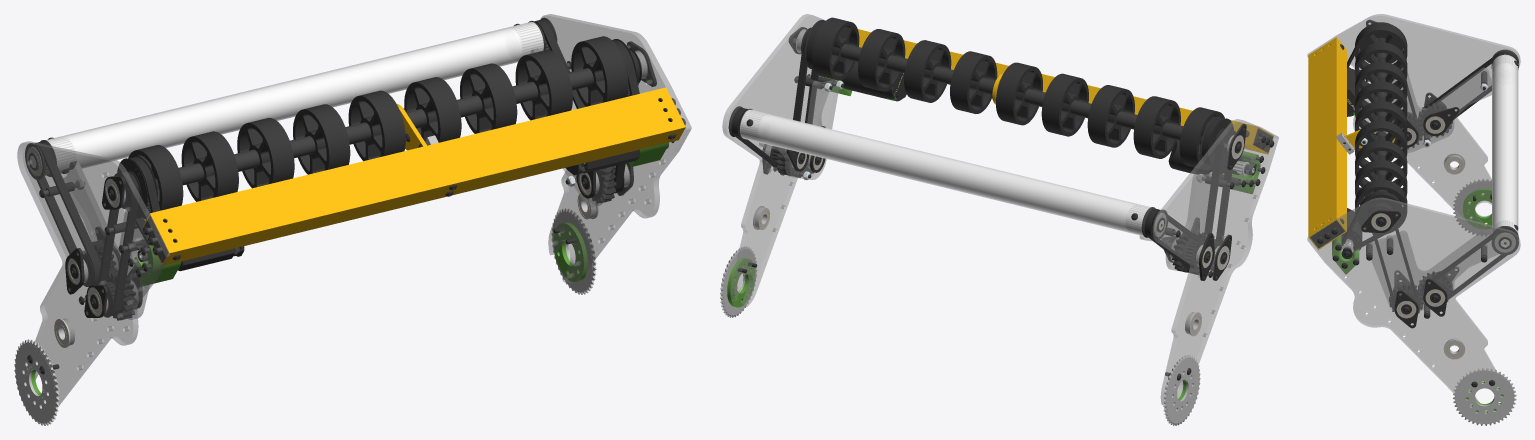
3 views of the same model, side by side, from view 1: azimuth 30°, elevation 25°; view 2: azimuth 150°, elevation 25°; view 3: azimuth 270°, elevation 25° (orthographic). The views are drawn at different scales.
Visible parts, largest first — view 1: C-Intake101_025_Polycarbonate_2_2026 (×2), Tube 2"x1"x25.6875", 3" Thrifty Squish Wheel (45A, 1" Wide, 1/2" Hex Bore) (×9), Deadaxle Tube_23.188_in, 44t Aluminum Plate Sprocket (#25, 1.125" Round Bore) (×2), C-Intake102_025_Polycarbonate_2_2026 (×2), 75T 5M 9mm Wide Belt, 80T 5M 9mm Wide Belt, Herringbone (22T Pulley 35T Gear) (×2), Kraken X44 Brushless Motor (×2), C-Intake112_50%_PLA_2_2026, 22t 38T Custom HTD 5mm Pulley (0.375" Wide, *0.5" Hex Bore) (+2 smaller); view 2: C-Intake101_025_Polycarbonate_2_2026 (×2), 3" Thrifty Squish Wheel (45A, 1" Wide, 1/2" Hex Bore) (×9), Deadaxle Tube_23.188_in, C-Intake102_025_Polycarbonate_2_2026 (×2), 44t Aluminum Plate Sprocket (#25, 1.125" Round Bore) (×2), 80T 5M 9mm Wide Belt (×2), Tube 2"x1"x25.6875", Kraken X44 Brushless Motor (×2), C-Intake112_50%_PLA_2_2026, 75T 5M 9mm Wide Belt, 22t 38T Custom HTD 5mm Pulley (0.375" Wide, *0.5" Hex Bore), Herringbone (22T Pulley 35T Gear) (+1 smaller); view 3: C-Intake101_025_Polycarbonate_2_2026 (×2), 3" Thrifty Squish Wheel (45A, 1" Wide, 1/2" Hex Bore) (×9), Tube 2"x1"x25.6875", C-Intake102_025_Polycarbonate_2_2026 (×2), Deadaxle Tube_23.188_in, 44t Aluminum Plate Sprocket (#25, 1.125" Round Bore) (×2), 75T 5M 9mm Wide Belt (×2), Herringbone (22T Pulley 35T Gear) (×4), 1.125" OD Bearing Retention Plate (Centered, 2" C-C) (×3), 22t 38T Custom HTD 5mm Pulley (0.375" Wide, *0.5" Hex Bore) (×2), 1/2" Rounded Hex (13.75mm) ID Bearing (1.125" OD, 0.313" WD, (×3), Kraken X44 Brushless Motor (×2) (+7 smaller).
Boxes of the visible parts, x1,y1,x2,y2 form: C-Intake101_025_Polycarbonate_2_2026 (×2): (17,14,691,406); Tube 2"x1"x25.6875": (143,87,685,265); 3" Thrifty Squish Wheel (45A, 1" Wide, 1/2" Hex Bore) (×9): (128,36,628,219); Deadaxle Tube_23.188_in: (46,21,543,173); 44t Aluminum Plate Sprocket (#25, 1.125" Round Bore) (×2): (14,208,596,425); C-Intake102_025_Polycarbonate_2_2026 (×2): (63,48,611,319); 75T 5M 9mm Wide Belt: (34,141,100,285); 80T 5M 9mm Wide Belt: (98,171,139,315); Herringbone (22T Pulley 35T Gear) (×2): (96,165,624,320); Kraken X44 Brushless Motor (×2): (139,149,639,271); C-Intake112_50%_PLA_2_2026: (553,222,587,282); 22t 38T Custom HTD 5mm Pulley (0.375" Wide, *0.5" Hex Bore): (114,156,157,218); C-Intake101_025_Polycarbonate_2_2026 (×2): (722,14,1278,404); 3" Thrifty Squish Wheel (45A, 1" Wide, 1/2" Hex Bore) (×9): (812,17,1224,169); Deadaxle Tube_23.188_in: (740,109,1150,236); C-Intake102_025_Polycarbonate_2_2026 (×2): (759,80,1218,270); 44t Aluminum Plate Sprocket (#25, 1.125" Round Bore) (×2): (720,246,1200,425); 80T 5M 9mm Wide Belt (×2): (793,29,1232,242); Tube 2"x1"x25.6875": (858,29,1273,154); Kraken X44 Brushless Motor (×2): (841,61,1254,176); C-Intake112_50%_PLA_2_2026: (727,258,755,307); 75T 5M 9mm Wide Belt: (1144,208,1201,269); 22t 38T Custom HTD 5mm Pulley (0.375" Wide, *0.5" Hex Bore): (1200,116,1235,166); Herringbone (22T Pulley 35T Gear): (1172,232,1204,272); C-Intake101_025_Polycarbonate_2_2026 (×2): (1307,14,1520,411); 3" Thrifty Squish Wheel (45A, 1" Wide, 1/2" Hex Bore) (×9): (1355,22,1407,228); Tube 2"x1"x25.6875": (1308,37,1346,249); C-Intake102_025_Polycarbonate_2_2026 (×2): (1367,67,1497,310); Deadaxle Tube_23.188_in: (1492,54,1518,233); 44t Aluminum Plate Sprocket (#25, 1.125" Round Bore) (×2): (1453,179,1516,425); 75T 5M 9mm Wide Belt (×2): (1422,51,1517,300); Herringbone (22T Pulley 35T Gear) (×4): (1389,102,1452,313); 1.125" OD Bearing Retention Plate (Centered, 2" C-C) (×3): (1361,210,1447,328); 22t 38T Custom HTD 5mm Pulley (0.375" Wide, *0.5" Hex Bore) (×2): (1359,22,1403,234); 1/2" Rounded Hex (13.75mm) ID Bearing (1.125" OD, 0.313" WD, (×3): (1443,153,1515,359); Kraken X44 Brushless Motor (×2): (1341,68,1362,250).
Bounding box in the file's own units: 0.6572 × 0.3625 × 0.309.
